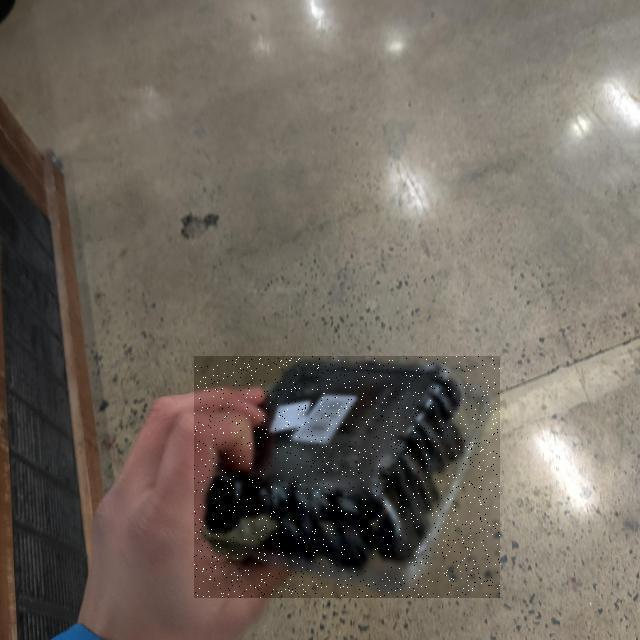Black Berries: (195, 356, 501, 598)
